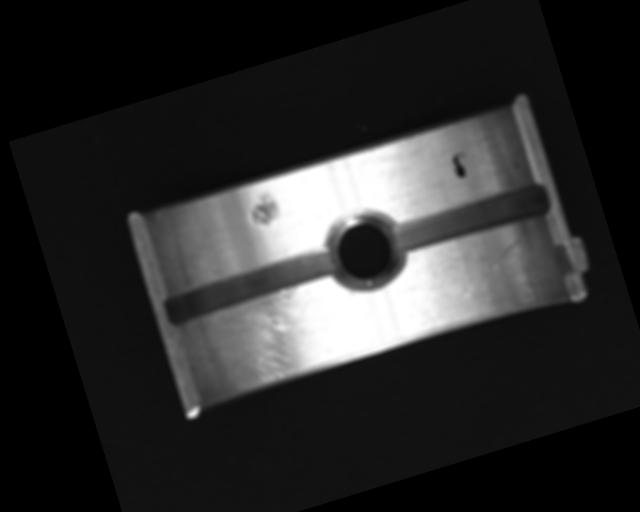blot: (448, 151, 473, 180)
bruise: (244, 187, 283, 230)
gap: (159, 243, 342, 329), (391, 179, 552, 256)
hole: (320, 201, 415, 298)
nick: (450, 232, 539, 299)
scratch: (182, 272, 363, 406)
